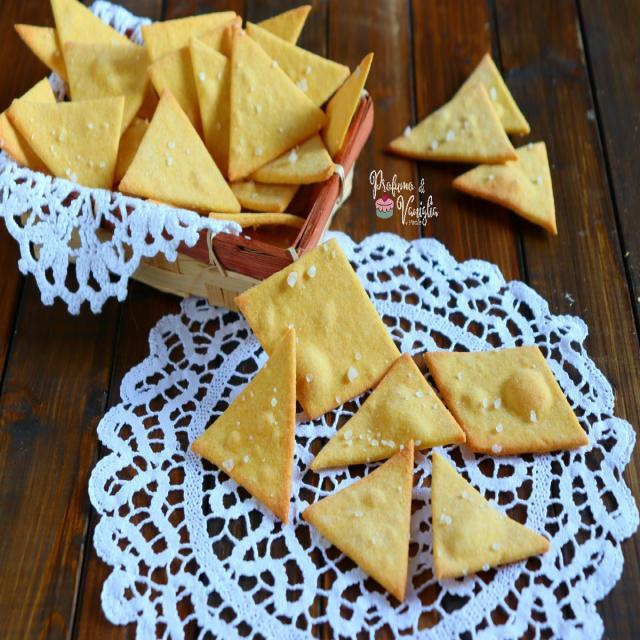Cracker: (244, 246, 410, 421), (415, 452, 563, 615), (427, 329, 581, 471), (116, 90, 238, 222), (217, 30, 322, 166)
